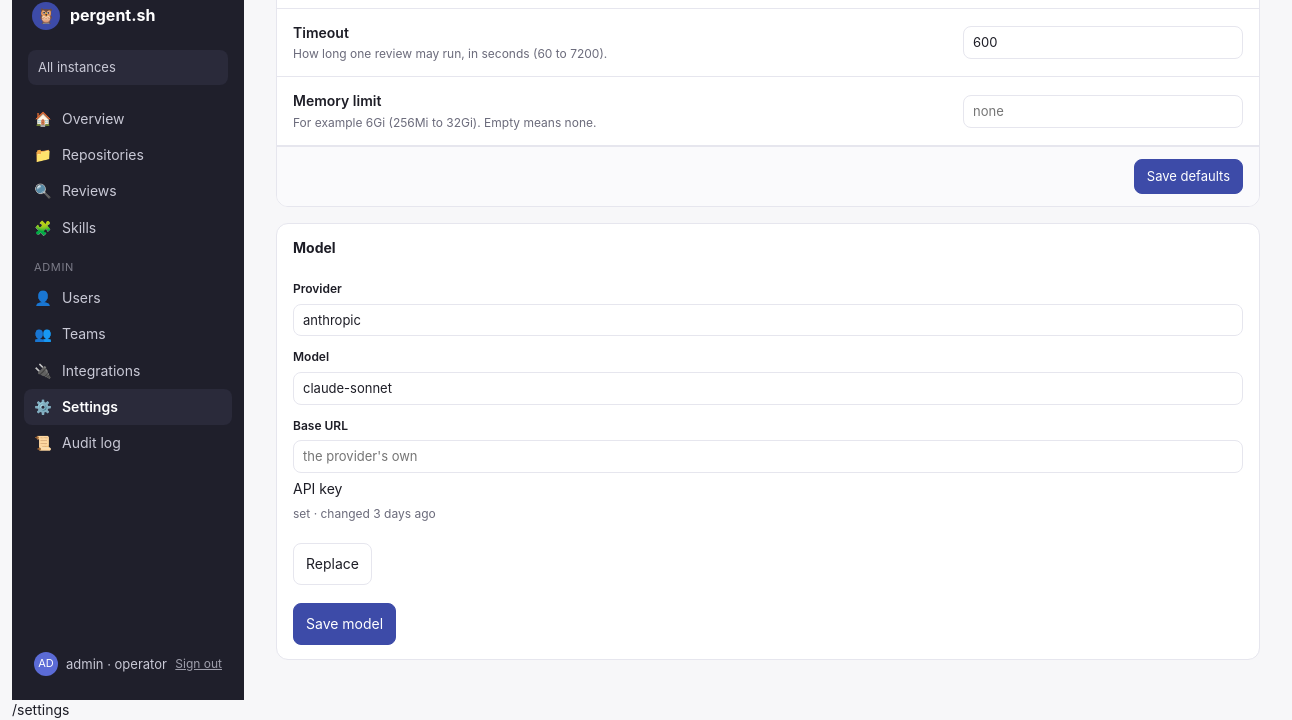
Scenario: AdminSettings model › is editable for an operator, with a write-only key
(page scrolled)
Expected: the field labelled "Provider" holds "anthropic", [293,304,1243,336]
Expected: the field labelled "Base URL" is empty, [293,440,1243,473]
Replace the text in the field labelled "Model" with "claude-opus": [768, 388] box [293,372,1243,404]
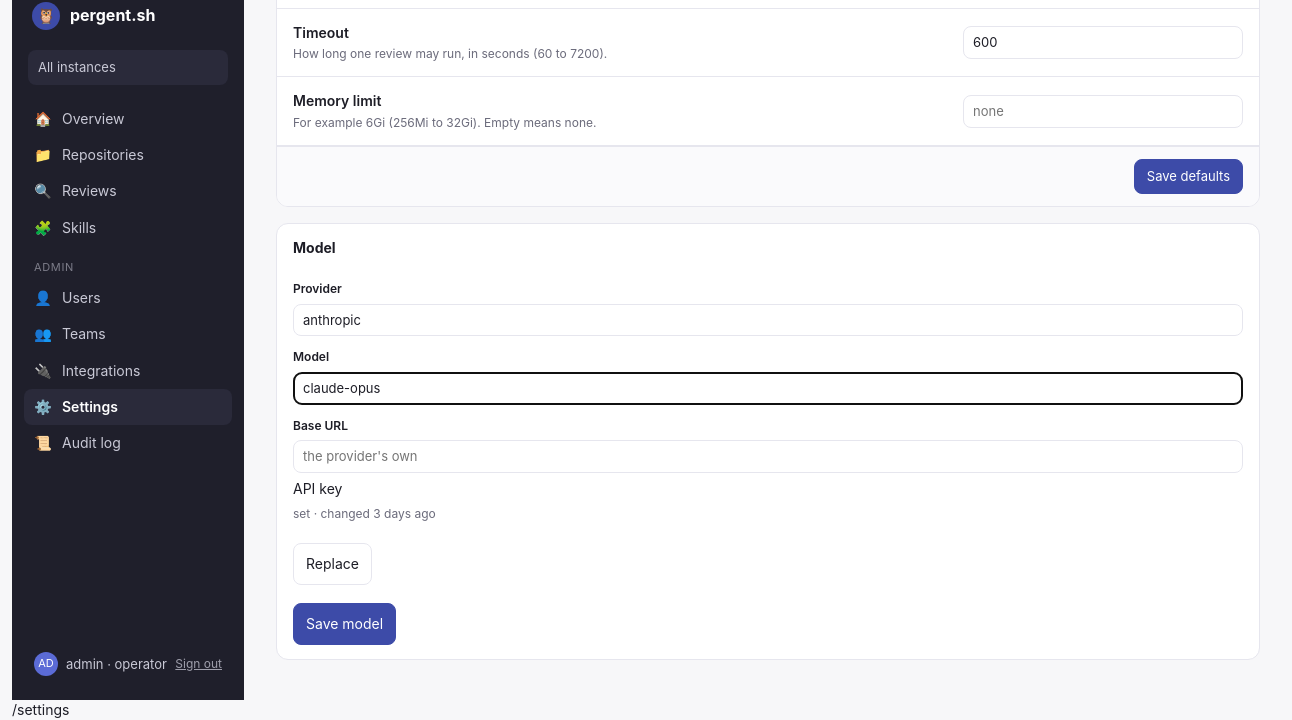
Click the button "Save model": [345, 624] box [293,603,396,645]
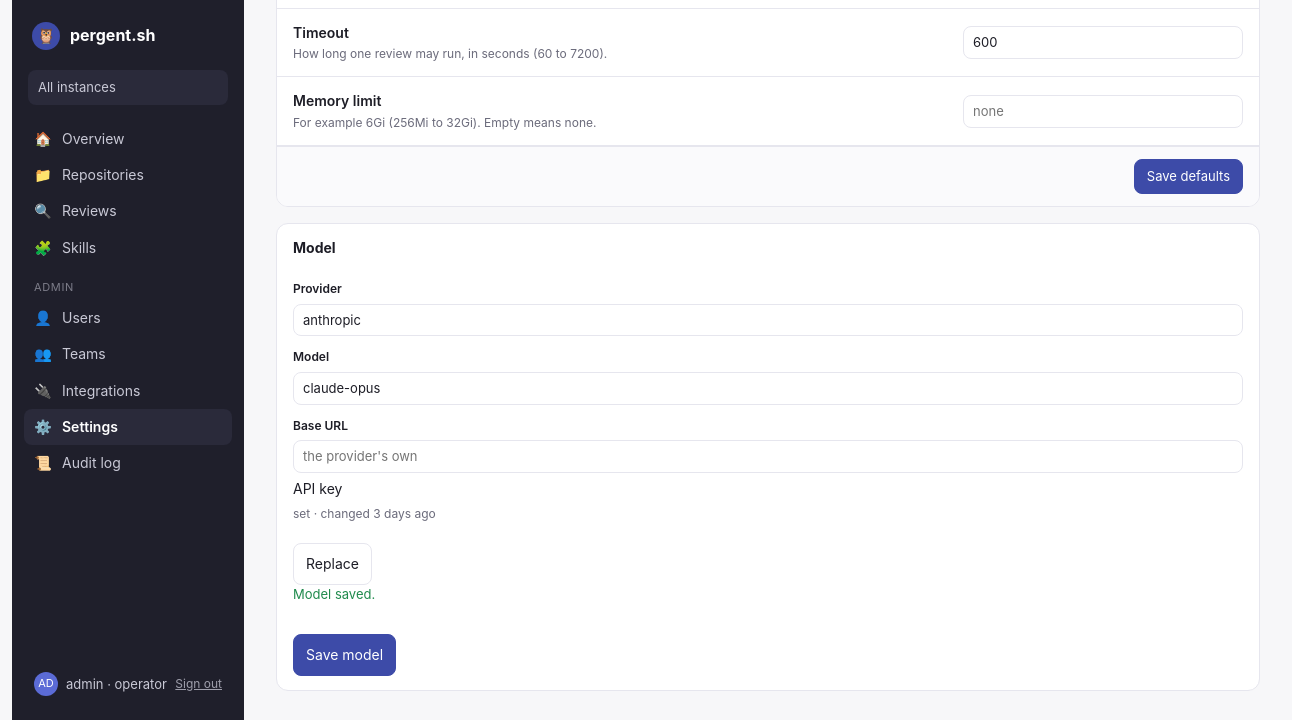
Now the text "Model saved." is shown, box [293,586,375,602]
